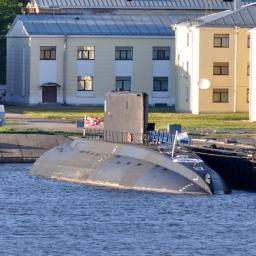submarine: (31, 93, 234, 197)
